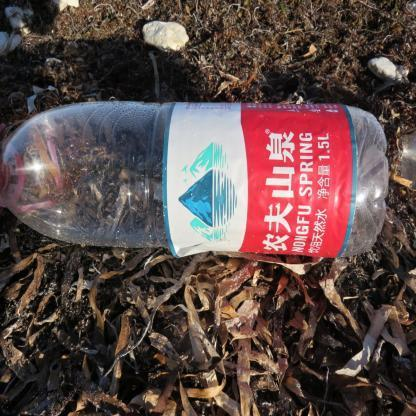plastic bottle: (1, 103, 387, 256)
